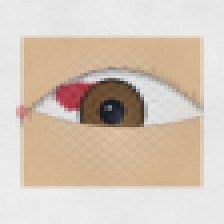hemorrhage_spot: (46, 68, 116, 124)
